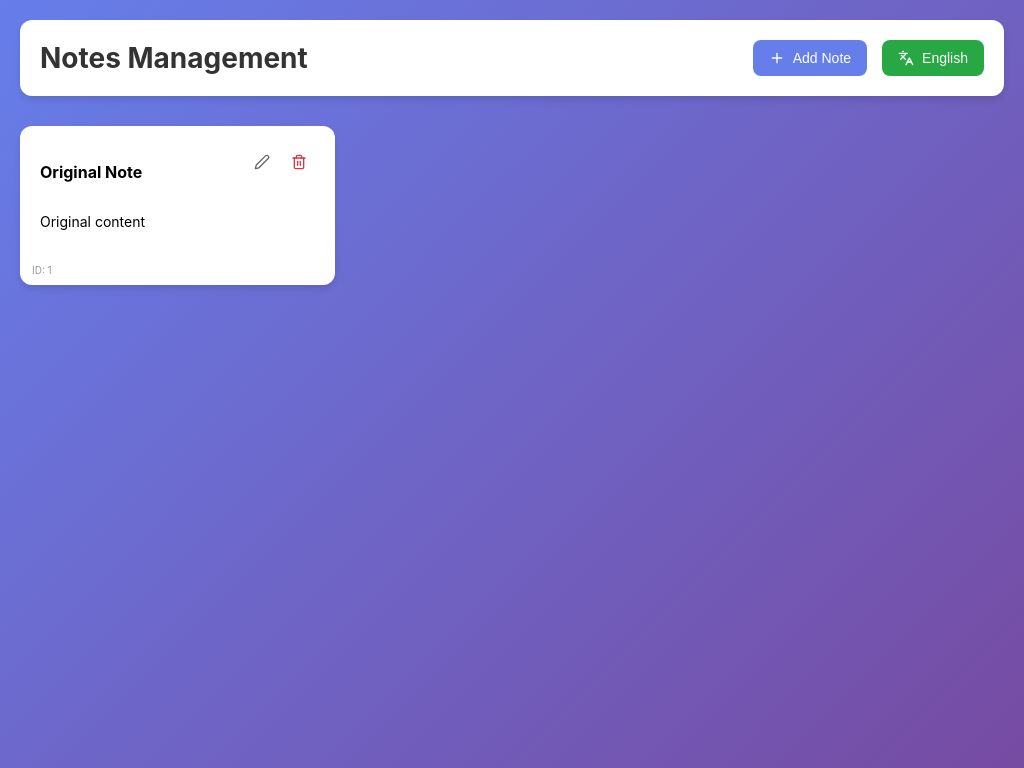
Test: Notes Application E2E Tests › should edit an existing note
The width and height of the screenshot is (1024, 768).
Click the 1st button with class "btn-icon" at point(262, 162), box x1=246 y1=146 x2=278 y2=178
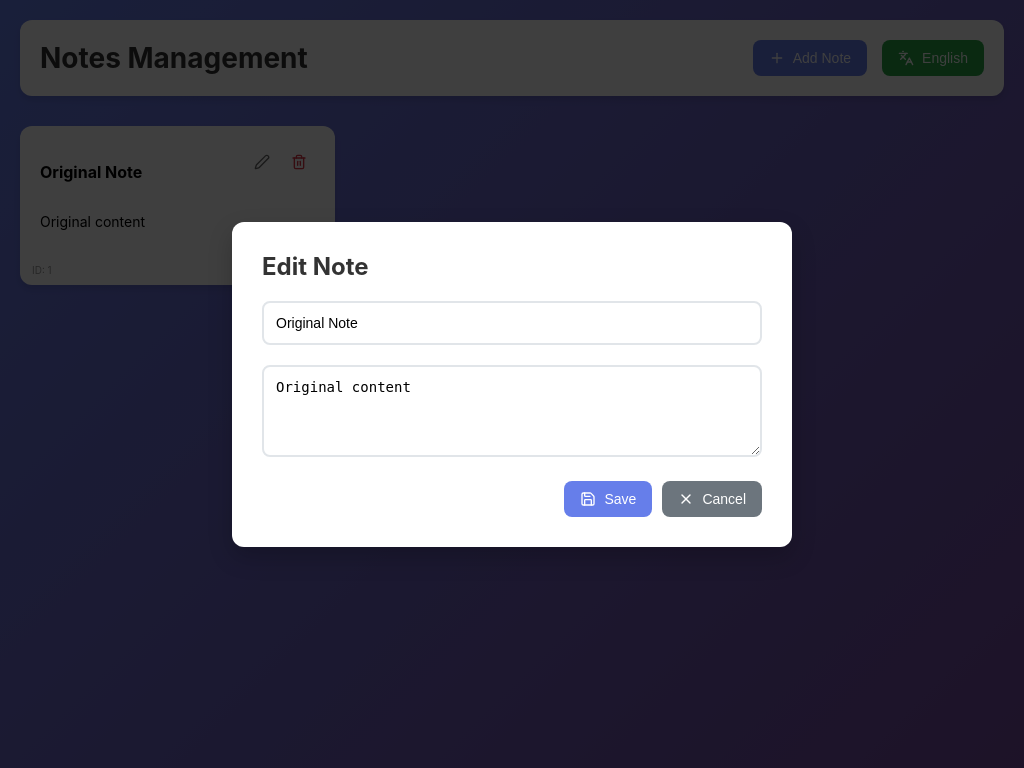
Result: the field with id "title" holds "Original Note"
Result: the text box holds "Original content" at x1=262 y1=365 x2=762 y2=457
Replace the text in the field with id "title" with "Updated Note" at point(512, 323), box x1=262 y1=301 x2=762 y2=345
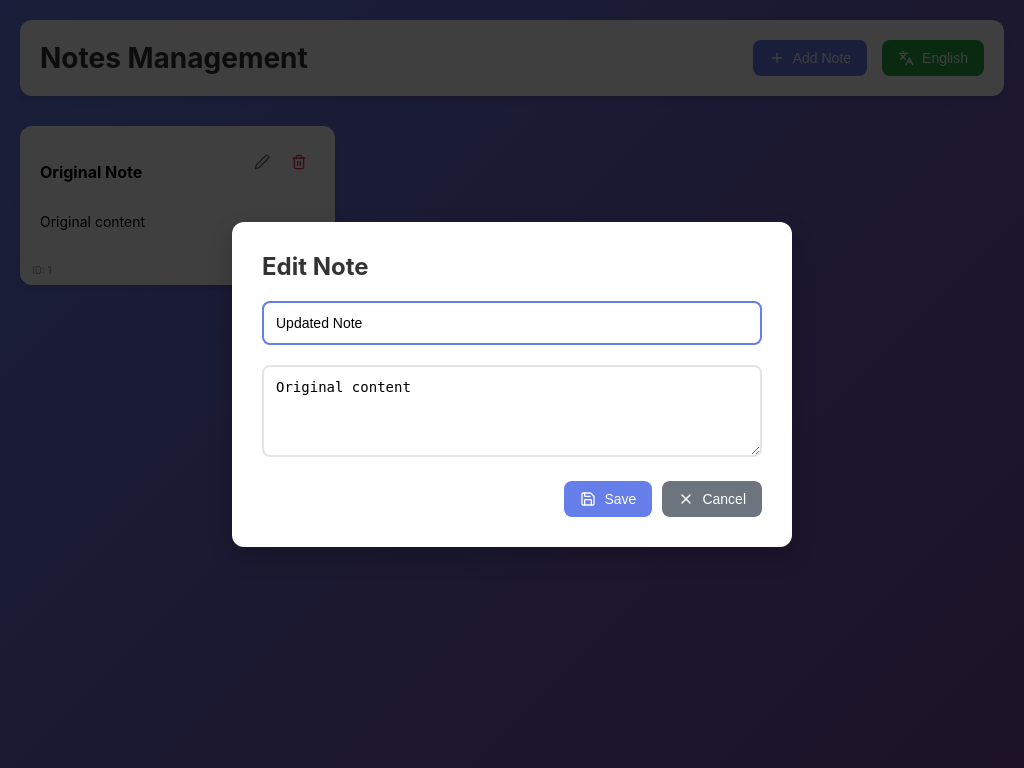
Replace the text in the text box with "Updated content" at point(512, 411), box x1=262 y1=365 x2=762 y2=457
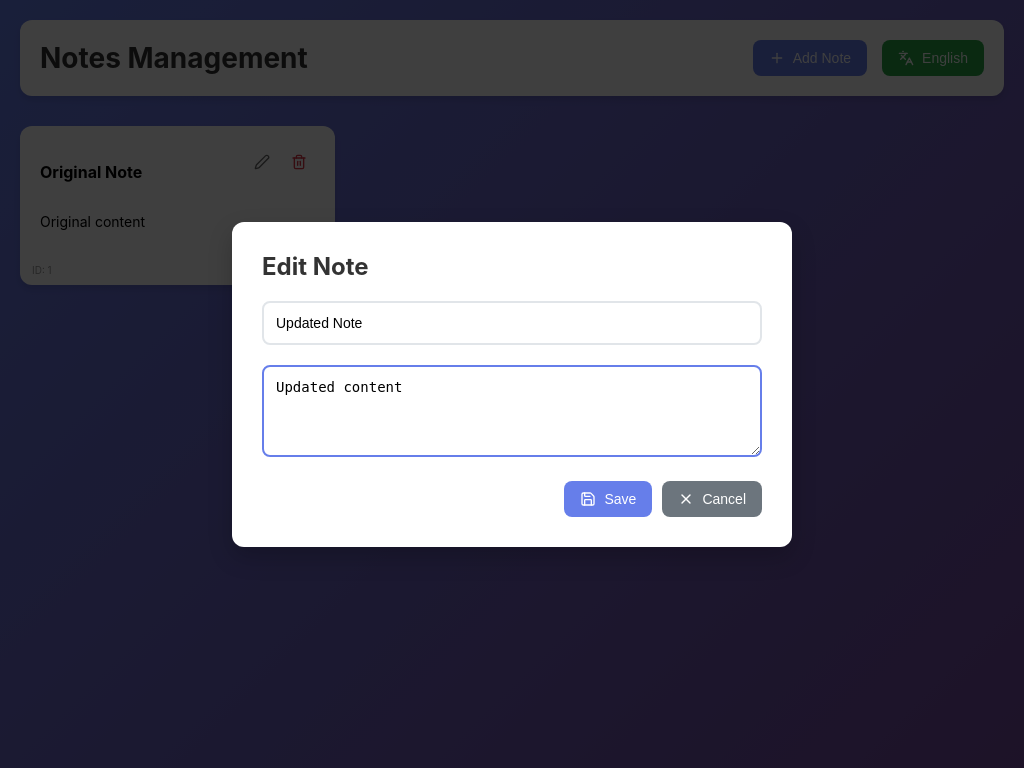
Click the button "Save" at point(609, 499), box x1=565 y1=481 x2=653 y2=517
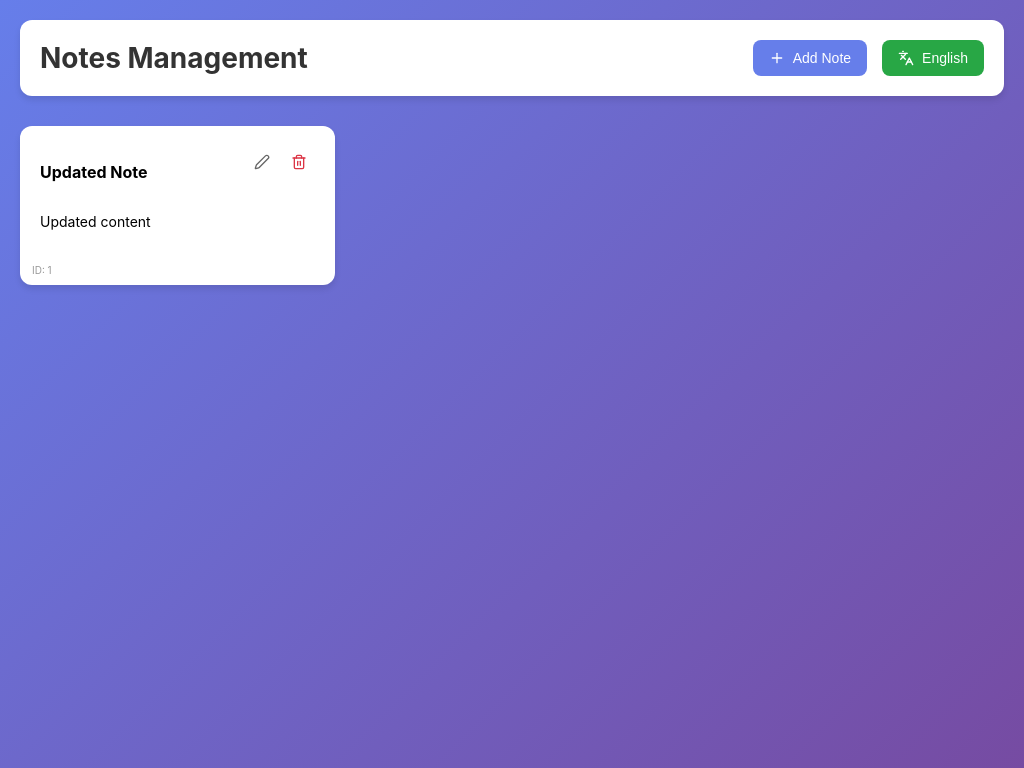
Result: the element with class "note-card" shows "Updated Note" at x1=20 y1=126 x2=335 y2=285
